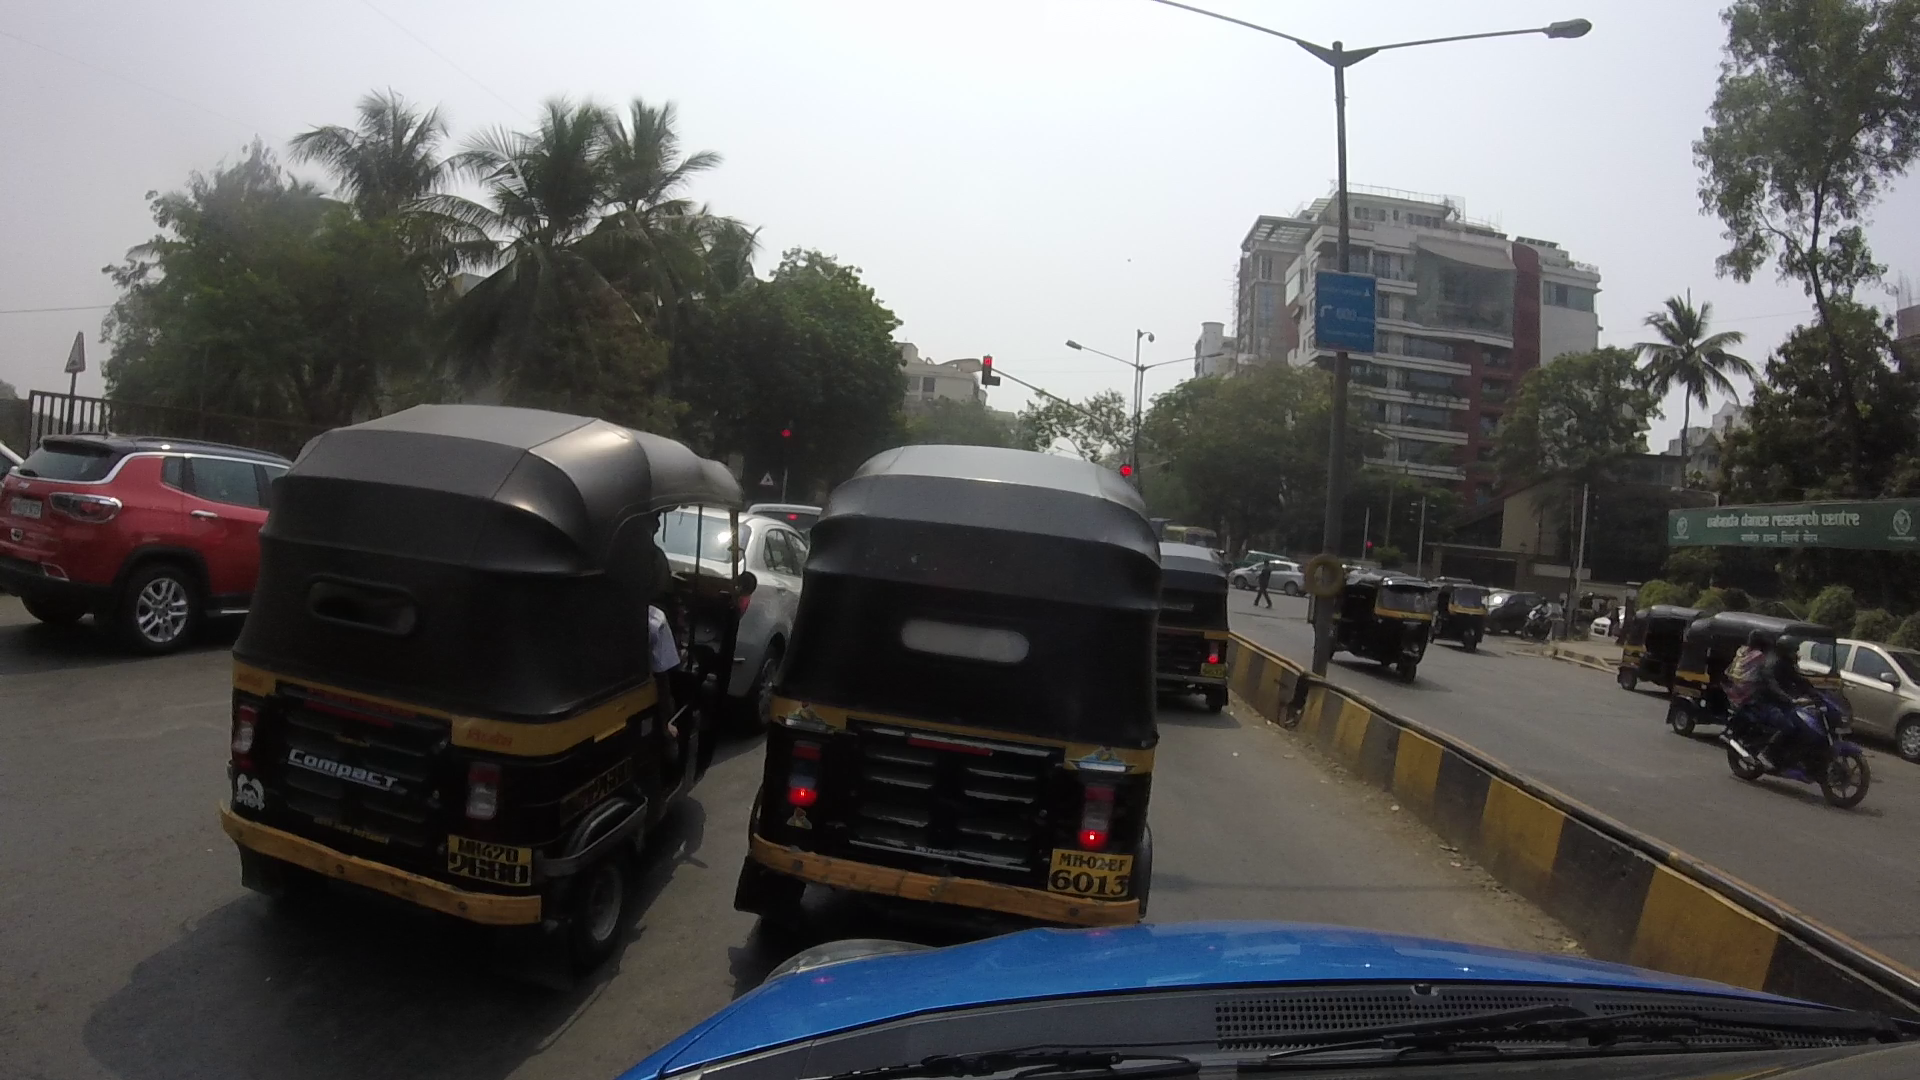bike/scooter: (1716, 644, 1880, 808)
car: (7, 390, 310, 675), (1800, 624, 1920, 749)
rickshaw: (207, 415, 757, 960), (767, 392, 1189, 957), (1124, 501, 1283, 731), (1664, 612, 1851, 732), (1321, 556, 1455, 675)
